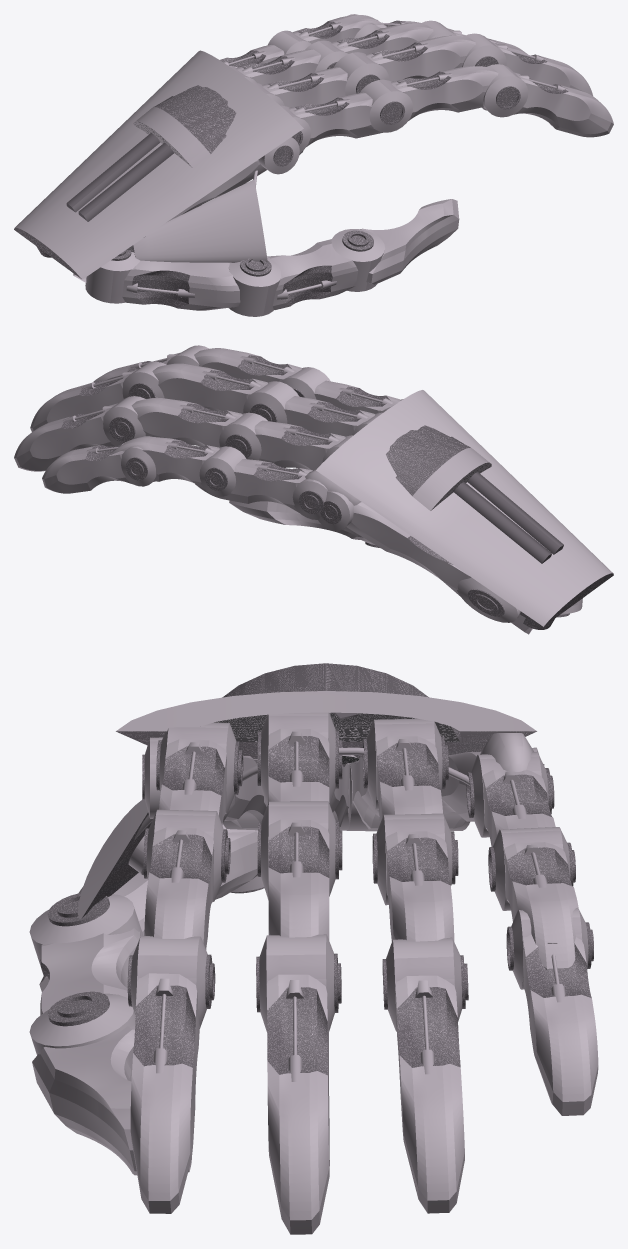
The model's file is robot_hand.dae.
3 views of the same model, one above another, from view 1: azimuth 30°, elevation 25°; view 2: azimuth 150°, elevation 25°; view 3: azimuth 270°, elevation 25° (orthographic). The views are drawn at different scales.
Visible parts, largest first — view 1: Component_9 (×20), group_7 (×3), Component_13 (×10), group_8, Component_1, OD_100.0mm_ID_0.0mm (×2); view 2: Component_9 (×20), group_7 (×3), Component_13 (×11), OD_100.0mm_ID_0.0mm (×2), Component_1, SimpleSphere01; view 3: Component_9 (×29), Component_13 (×17), group_7 (×3), Component_1, group_8 (×2), SimpleSphere01.
Part boxes in pixels (x1,y1,x2,y2): Component_9 (×20): [73, 15, 613, 310]; group_7 (×3): [14, 50, 303, 279]; Component_13 (×10): [85, 30, 528, 316]; group_8: [133, 179, 267, 262]; Component_1: [360, 199, 459, 284]; OD_100.0mm_ID_0.0mm (×2): [66, 132, 173, 221]; Component_9 (×20): [14, 348, 532, 634]; group_7 (×3): [316, 390, 613, 626]; Component_13 (×11): [103, 345, 520, 622]; OD_100.0mm_ID_0.0mm (×2): [454, 472, 563, 563]; Component_1: [229, 500, 363, 539]; SimpleSphere01: [305, 469, 361, 505]; Component_9 (×29): [40, 728, 598, 1234]; Component_13 (×17): [29, 712, 588, 1055]; group_7 (×3): [116, 663, 536, 758]; Component_1: [32, 1025, 191, 1175]; group_8 (×2): [78, 799, 151, 918]; SimpleSphere01: [480, 733, 533, 771].
Bounding box in the file's own units: 9.54 × 4.32 × 3.04.
Materials: 5 (5 with a texture image).
